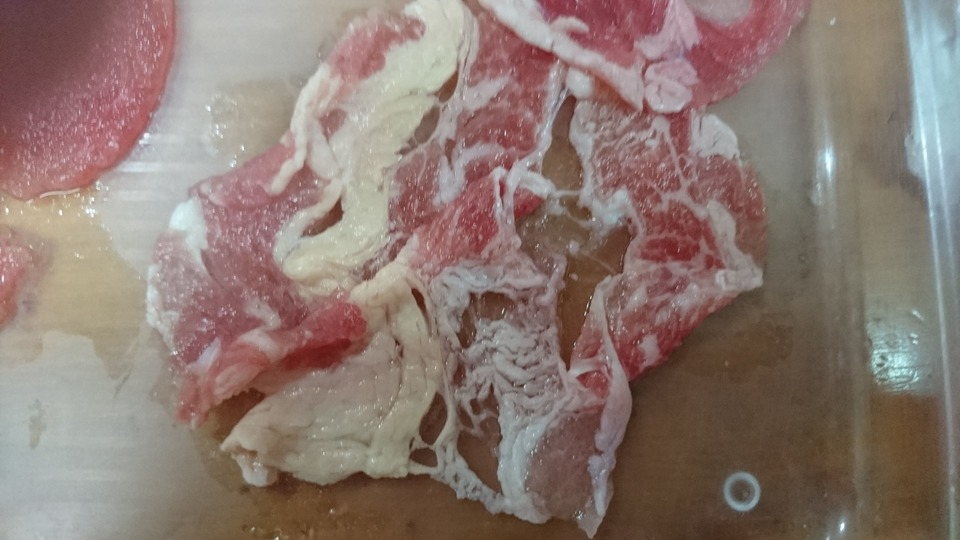restructured meat: (190, 1, 781, 490), (8, 2, 180, 205)
